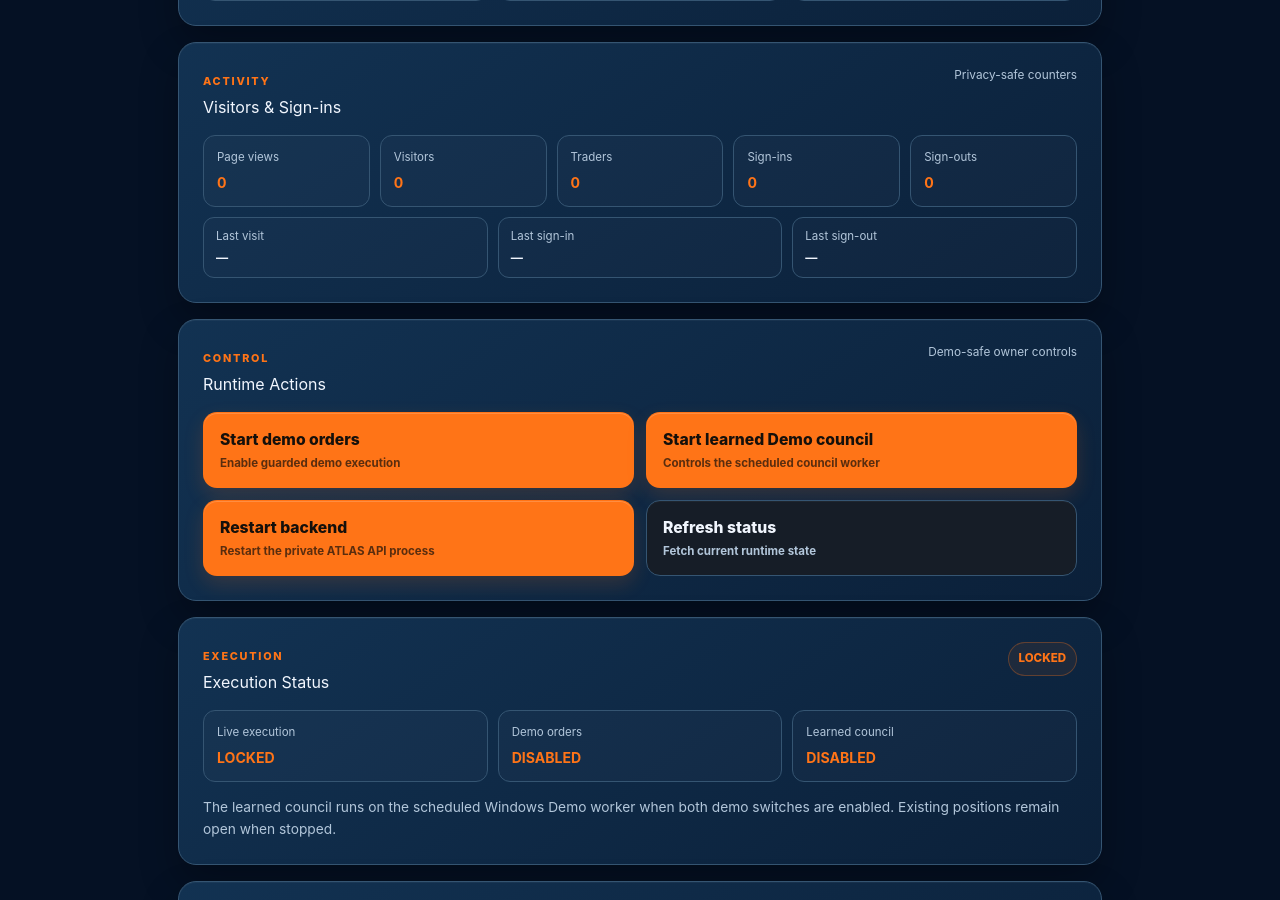
Test case: shows owner status and changes demo permission only after server success
(page scrolled)
Click the switch: [290, 439] box [203,412,634,488]
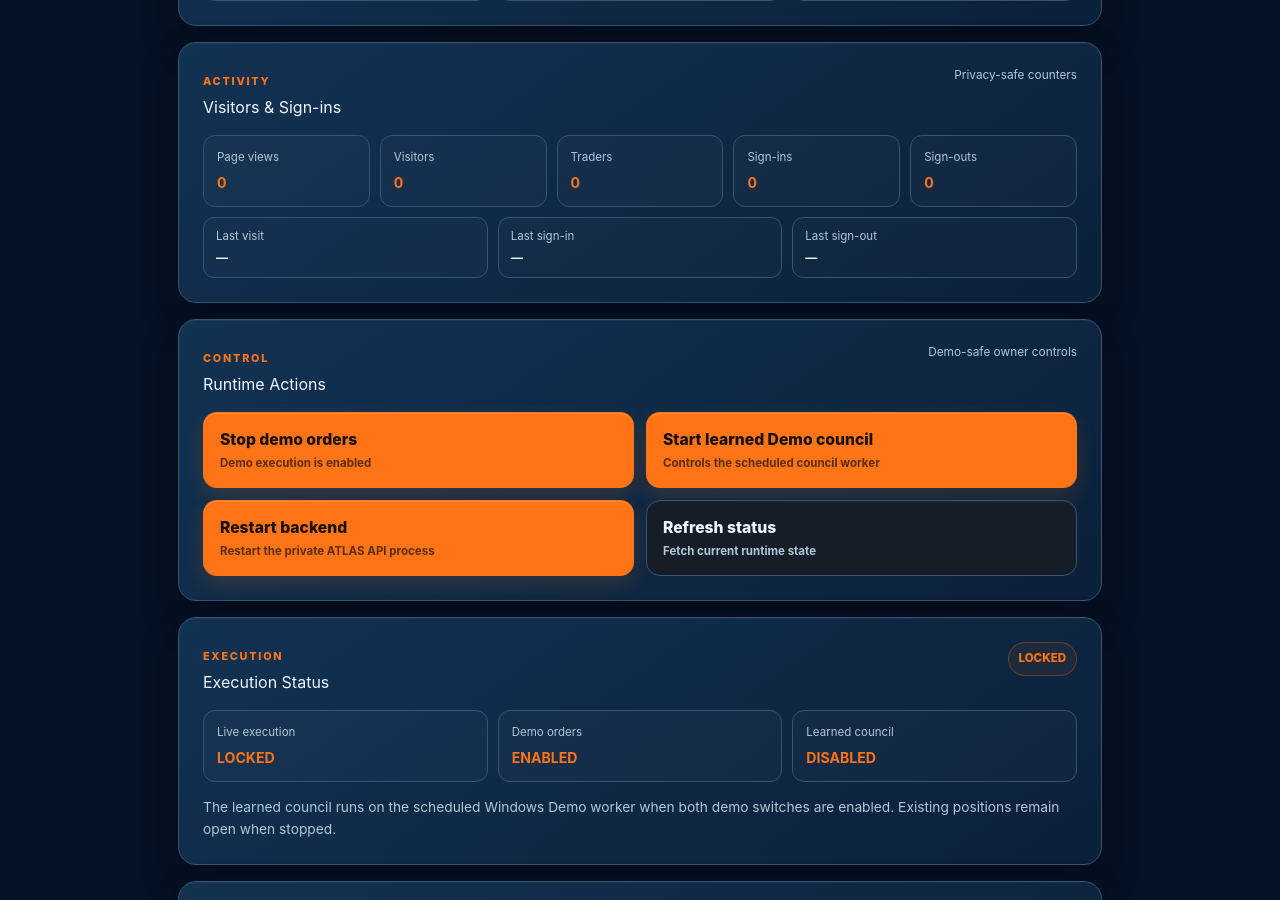
Now the switch is checked, box [203,412,634,488]
